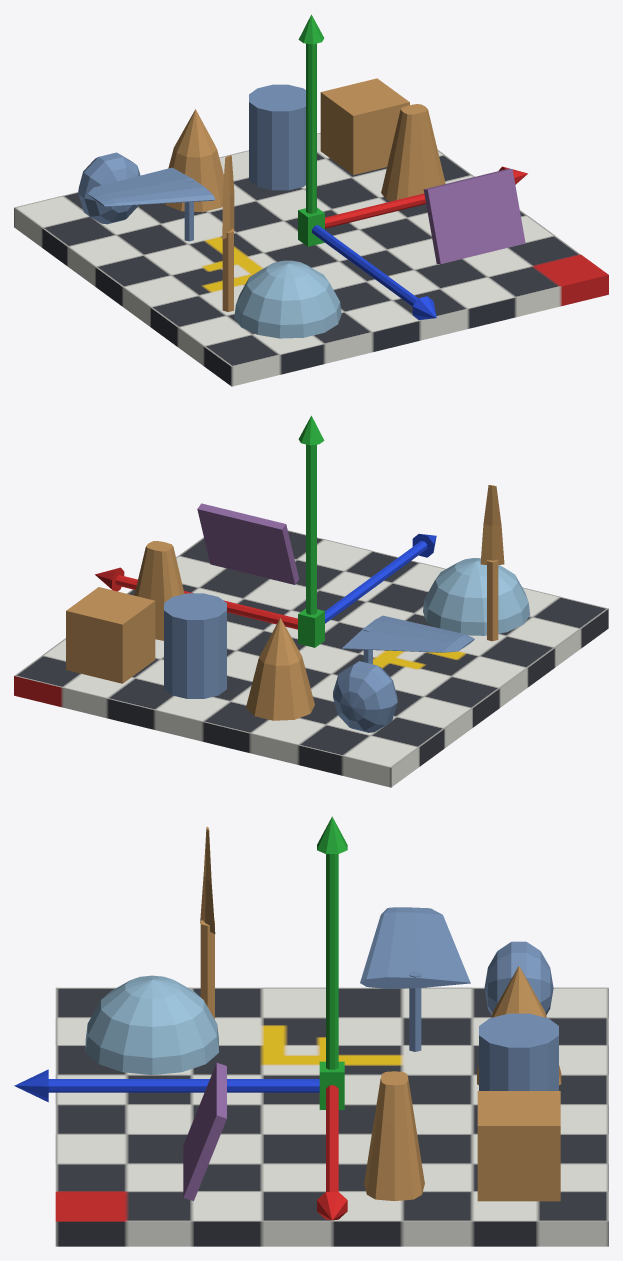
File: calib_card.obj
3 renders of one model, top to bottom at view 1: azimuth 30°, elevation 25°; view 2: azimuth 150°, elevation 25°; view 3: azimuth 270°, elevation 25°, orthographic. The views are drawn at different scales.
Visible parts, largest first — view 1: plate, $lid, glass, p_box, p_cylinder, p_loft, p_wing, axis_y, p_cone, p_ellipsoid, axis_z, p_blade (+1 smaller); view 2: plate, p_box, p_cylinder, glass, $lid, p_cone, p_ellipsoid, p_wing, axis_y, p_loft, p_blade, axis_z (+1 smaller); view 3: plate, glass, p_box, p_wing, p_cylinder, p_loft, axis_y, axis_z, $lid, p_ellipsoid, p_blade, axis_x (+1 smaller).
Boxes of the visible parts, bbox=[...] form: plate: bbox=[14, 133, 608, 386]; $lid: bbox=[423, 168, 525, 263]; glass: bbox=[234, 260, 341, 338]; p_box: bbox=[320, 78, 409, 174]; p_cylinder: bbox=[249, 84, 305, 190]; p_loft: bbox=[381, 104, 445, 201]; p_wing: bbox=[88, 167, 215, 241]; axis_y: bbox=[298, 14, 324, 246]; p_cone: bbox=[164, 109, 223, 212]; p_ellipsoid: bbox=[78, 152, 140, 224]; axis_z: bbox=[312, 225, 436, 319]; p_blade: bbox=[222, 155, 234, 311]; plate: bbox=[14, 530, 608, 787]; p_box: bbox=[66, 587, 155, 683]; p_cylinder: bbox=[164, 593, 226, 698]; glass: bbox=[423, 558, 530, 635]; $lid: bbox=[197, 503, 299, 584]; p_cone: bbox=[246, 618, 314, 720]; p_ellipsoid: bbox=[333, 661, 397, 732]; p_wing: bbox=[342, 615, 474, 664]; axis_y: bbox=[298, 415, 324, 647]; p_loft: bbox=[134, 541, 184, 640]; p_blade: bbox=[480, 485, 504, 641]; axis_z: bbox=[325, 534, 436, 623]; plate: bbox=[55, 987, 608, 1246]; glass: bbox=[85, 975, 218, 1074]; p_box: bbox=[477, 1091, 560, 1201]; p_wing: bbox=[360, 907, 470, 1051]; p_cylinder: bbox=[479, 1013, 558, 1090]; p_loft: bbox=[364, 1071, 424, 1200]; axis_y: bbox=[317, 816, 347, 1109]; axis_z: bbox=[14, 1069, 319, 1102]; $lid: bbox=[183, 1063, 226, 1200]; p_ellipsoid: bbox=[484, 941, 553, 1015]; p_blade: bbox=[200, 826, 215, 1019]; axis_x: bbox=[317, 1085, 347, 1220].
Bounding box in the file's own units: 4.3 × 2.5 × 4.3.
1 material, 1 textured.
